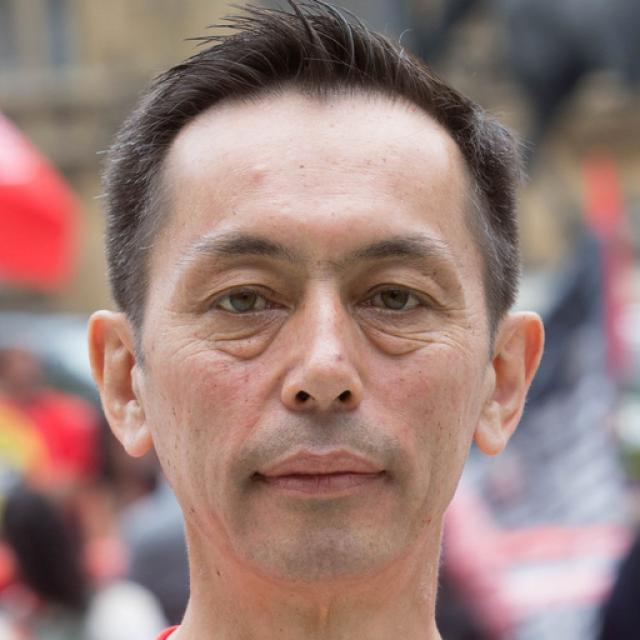neutral: (142, 92, 488, 578)
